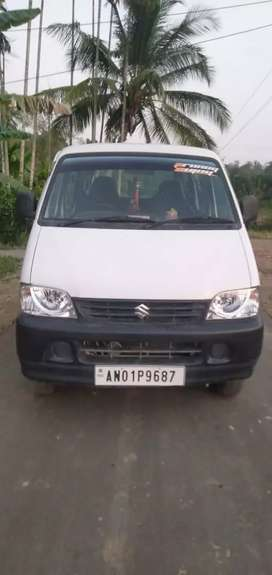AN01P9687: (94, 364, 185, 385)
